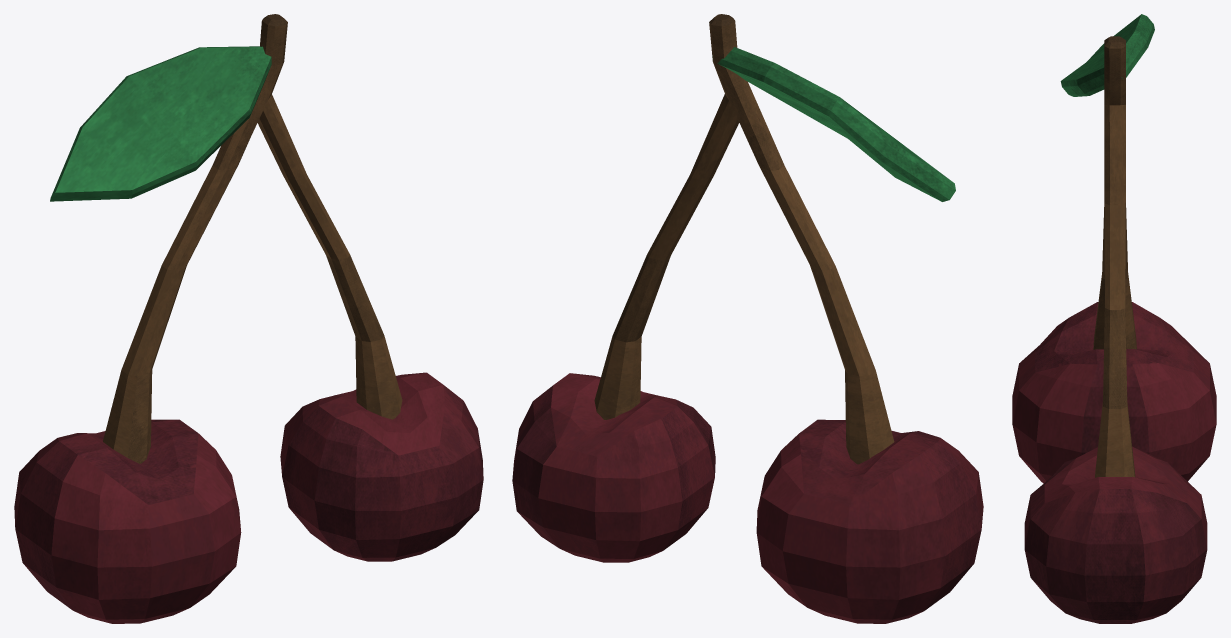
The model's file is Cherries.fbx.
The picture shows the model from 3 angles, left to right: view 1: azimuth 30°, elevation 25°; view 2: azimuth 150°, elevation 25°; view 3: azimuth 270°, elevation 25°; orthographic projection. The views are drawn at different scales.
Parts seen in each view (by area): view 1: Cireres1, Cirera, Palo3, Fulla; view 2: Cireres1, Cirera, Palo3, Fulla; view 3: Cirera, Cireres1, Palo3, Fulla.
Boxes of the visible parts, <box> form: Cireres1: <box>14,419,241,623</box>; Cirera: <box>280,372,483,561</box>; Palo3: <box>103,14,402,463</box>; Fulla: <box>50,46,271,201</box>; Cireres1: <box>756,419,983,623</box>; Cirera: <box>512,373,715,562</box>; Palo3: <box>594,14,894,464</box>; Fulla: <box>712,47,955,201</box>; Cirera: <box>1024,446,1207,623</box>; Cireres1: <box>1012,302,1216,483</box>; Palo3: <box>1093,36,1136,477</box>; Fulla: <box>1060,14,1154,96</box>.
Size of the model in its own units: 90.55 by 110 by 39.35.
3 materials, 3 textured.
